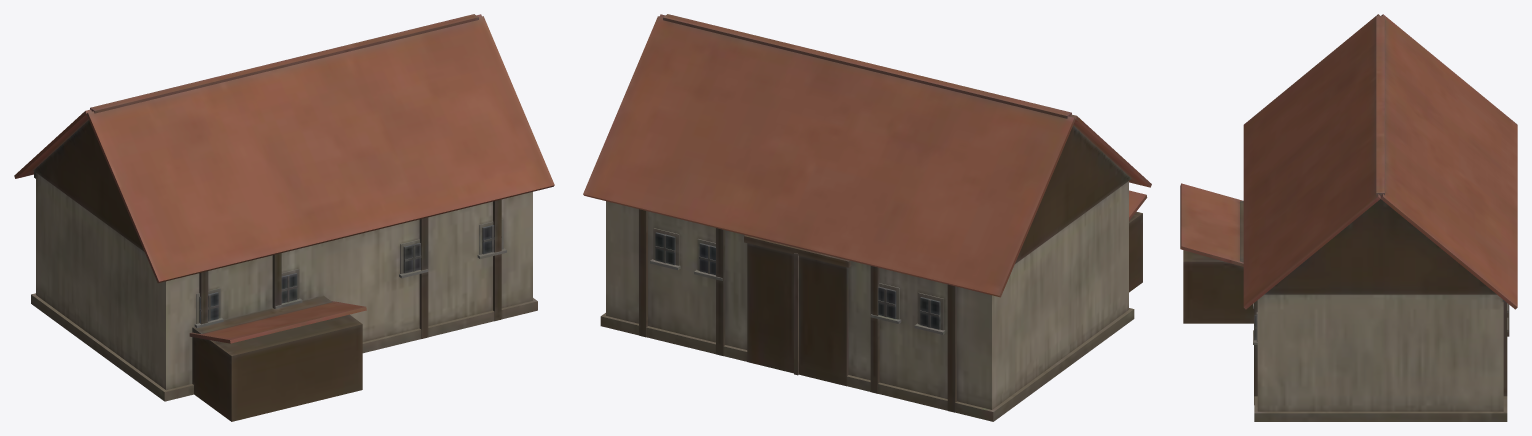
Rendered from barn_baked.glb.
3 renders of one model, left to right at view 1: azimuth 30°, elevation 25°; view 2: azimuth 150°, elevation 25°; view 3: azimuth 270°, elevation 25°, orthographic. The views are drawn at different scales.
Visible parts, largest first — view 1: barn; view 2: barn; view 3: barn.
Part boxes in pixels (x1,y1,x2,y2): barn: [14, 14, 554, 421]; barn: [583, 14, 1151, 421]; barn: [1180, 14, 1517, 421].
Size of the model in its own units: 15.1 by 8.92 by 11.79.
1 material, 1 textured.
